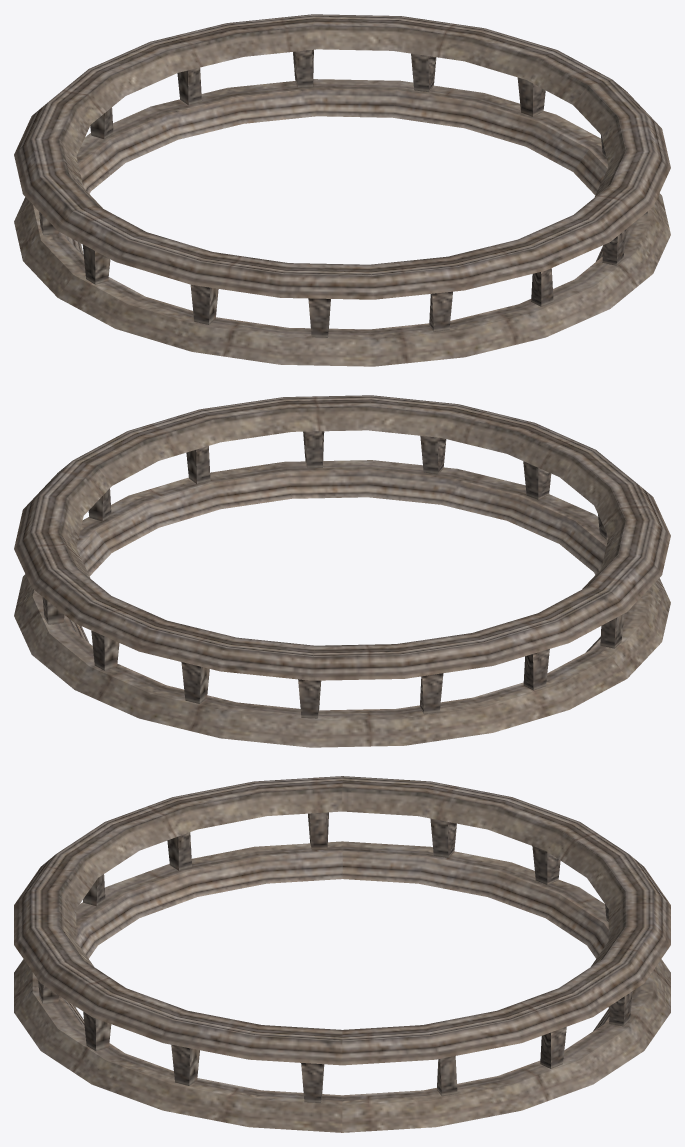
File: SM_zhucheng_Castle_Circle_Railing_002.FBX
3 renders of one model, top to bottom at view 1: azimuth 30°, elevation 25°; view 2: azimuth 150°, elevation 25°; view 3: azimuth 270°, elevation 25°, orthographic.
Parts seen in each view (by area): view 1: SM_zhucheng_Castle_Circle_Railing_002; view 2: SM_zhucheng_Castle_Circle_Railing_002; view 3: SM_zhucheng_Castle_Circle_Railing_002.
Boxes of the visible parts, x1,y1,x2,y2 form: SM_zhucheng_Castle_Circle_Railing_002: (14, 14, 670, 366); SM_zhucheng_Castle_Circle_Railing_002: (14, 395, 670, 747); SM_zhucheng_Castle_Circle_Railing_002: (14, 776, 670, 1132).
Size of the model in its own units: 175 by 24.38 by 173.
